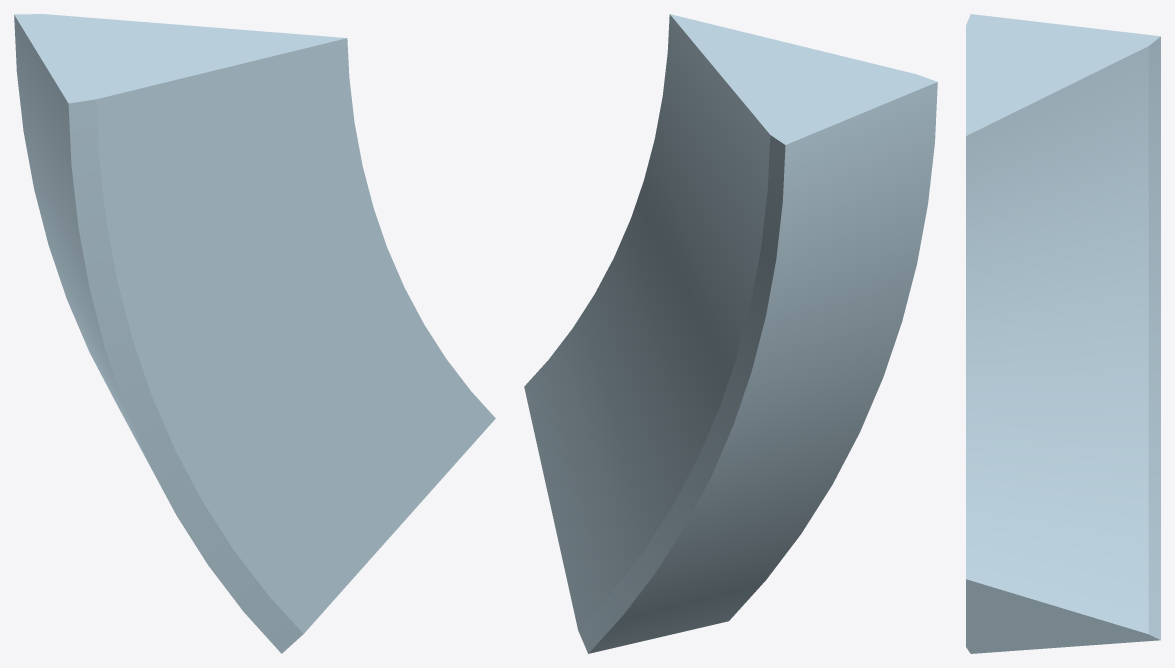
The model's file is Sub_8_Cell_2_3.gltf.
3 views of the same model, side by side, from view 1: azimuth 30°, elevation 25°; view 2: azimuth 150°, elevation 25°; view 3: azimuth 270°, elevation 25° (orthographic). The views are drawn at different scales.
Visible parts, largest first — view 1: Sub_8_Cell_2_3; view 2: Sub_8_Cell_2_3; view 3: Sub_8_Cell_2_3.
Part boxes in pixels (left/top/right/bottom): Sub_8_Cell_2_3: left=14, top=14, right=495, bottom=653; Sub_8_Cell_2_3: left=524, top=14, right=937, bottom=653; Sub_8_Cell_2_3: left=966, top=14, right=1160, bottom=653.
Size of the model in its own units: 0.0875 by 0.1186 by 0.0384.
